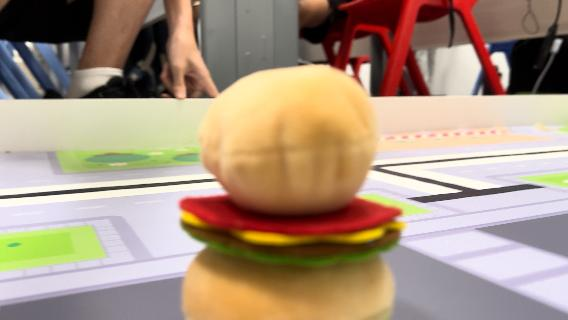burger: (183, 64, 404, 320)
